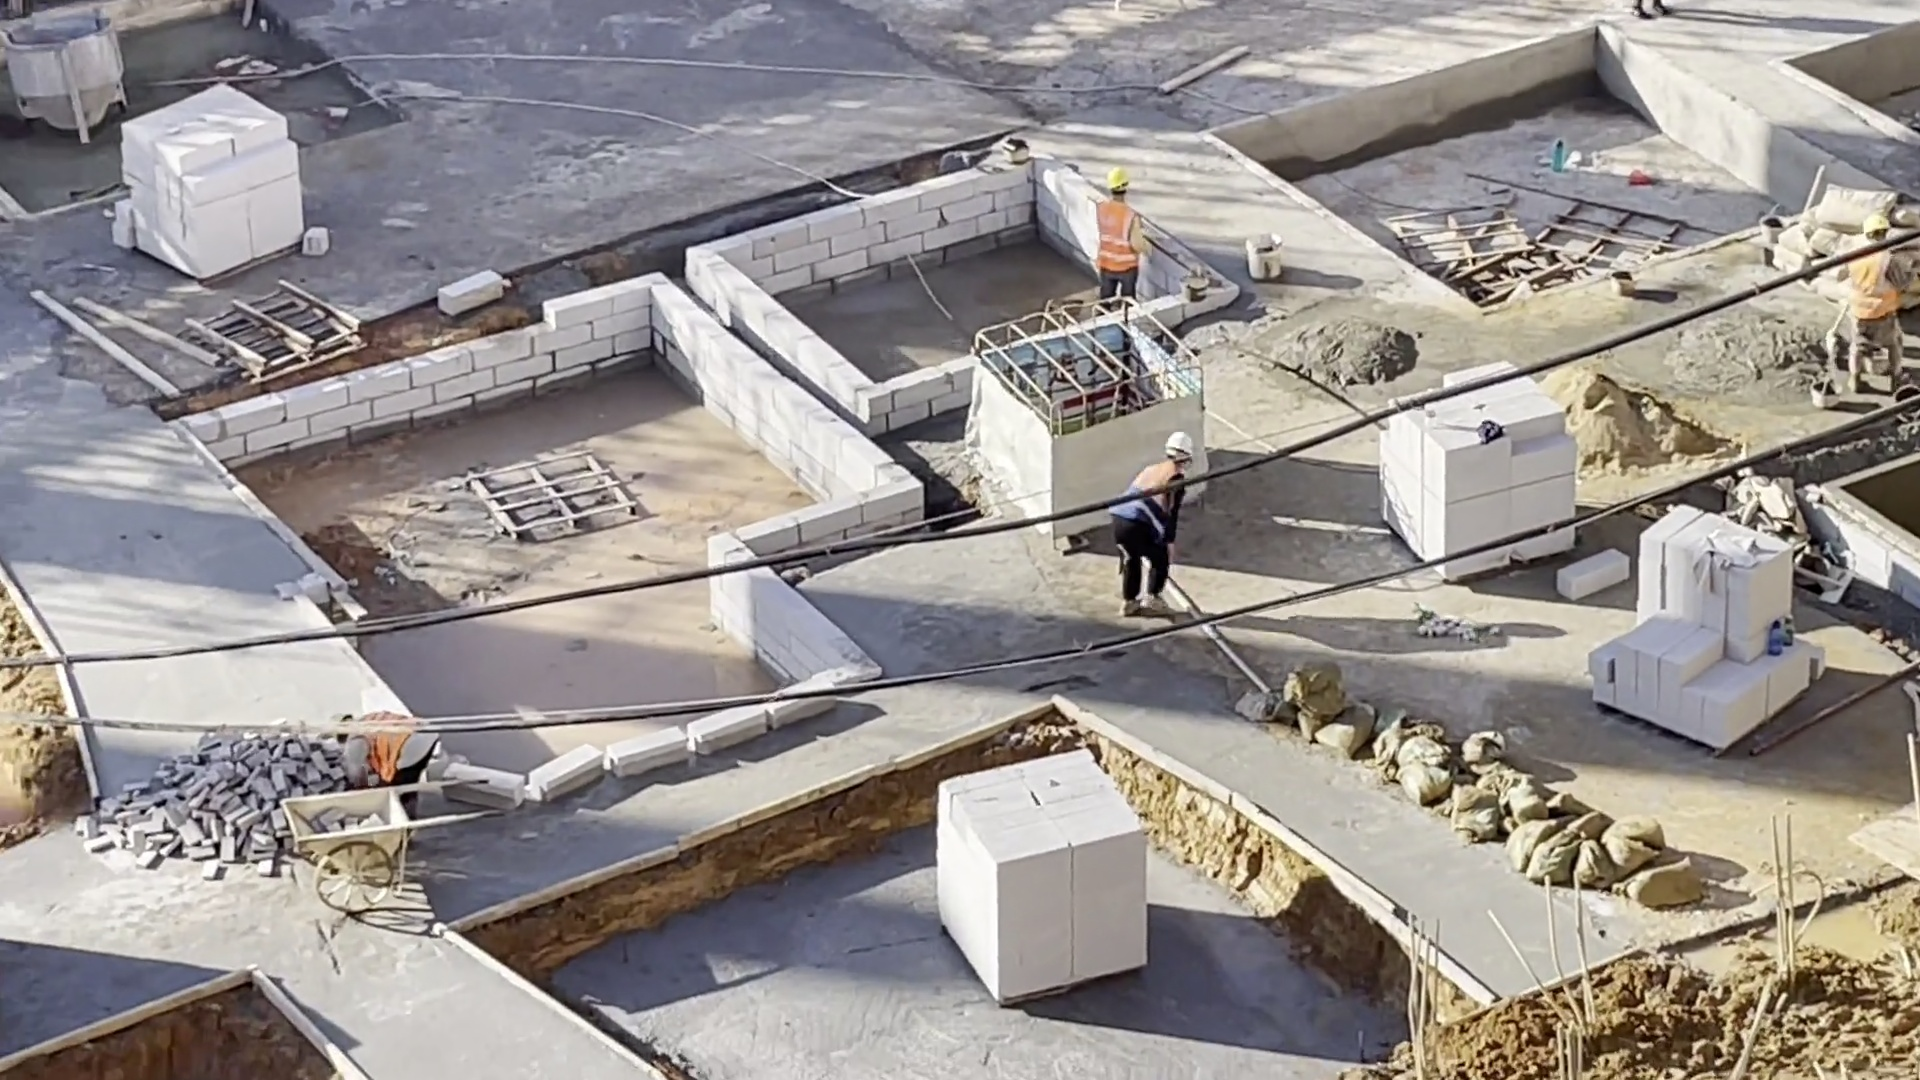brick: (1621, 514, 1824, 767), (962, 769, 1147, 991), (1419, 397, 1569, 604), (138, 109, 313, 284)
handcart: (271, 779, 411, 931)
helmet: (1163, 422, 1198, 459), (336, 707, 361, 741), (1861, 224, 1889, 246), (1103, 179, 1141, 192)
person: (324, 703, 431, 821), (1116, 443, 1181, 596), (1831, 245, 1899, 375), (1084, 175, 1141, 295)
vest: (334, 712, 434, 784), (1843, 219, 1903, 327), (1094, 211, 1149, 286), (1121, 469, 1174, 537)
